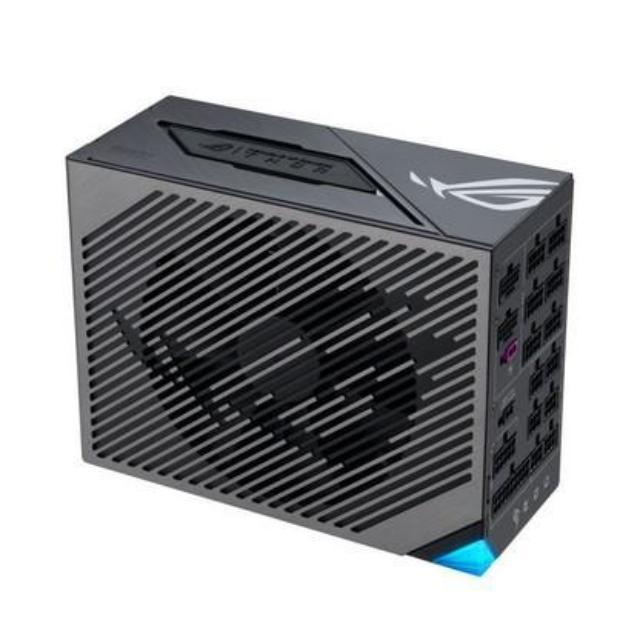PSU: (52, 80, 590, 582)
